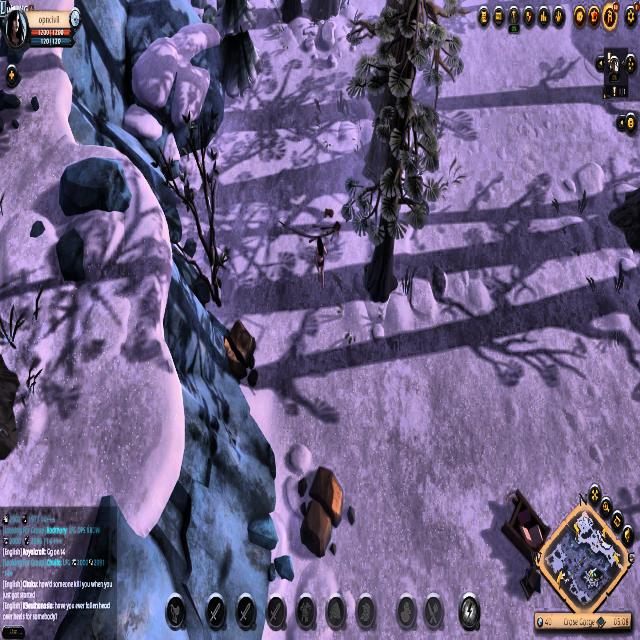limestone: (293, 461, 349, 569), (224, 314, 259, 384)
